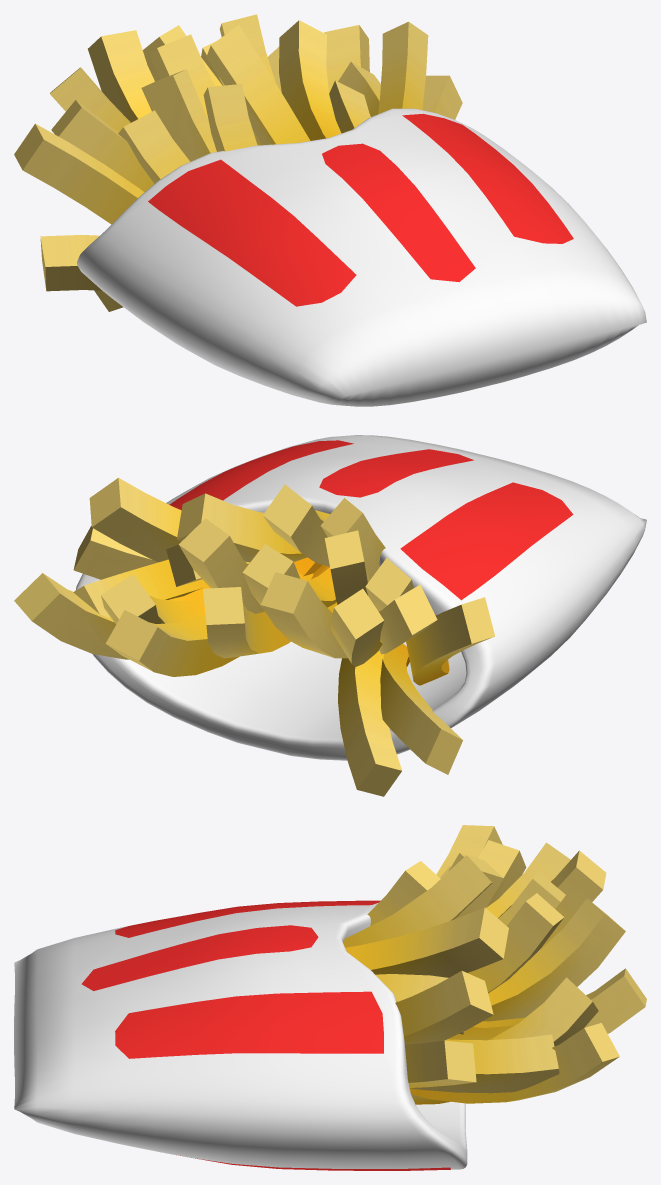
The model's file is chips.fbx.
3 renders of one model, top to bottom at view 1: azimuth 30°, elevation 25°; view 2: azimuth 150°, elevation 25°; view 3: azimuth 270°, elevation 25°, orthographic. The views are drawn at different scales.
Visible parts, largest first — view 1: chips; view 2: chips; view 3: chips.
Part boxes in pixels (x1,y1,x2,y2): chips: [14, 14, 646, 406]; chips: [14, 435, 646, 796]; chips: [14, 825, 646, 1170].
Bounding box in the file's own units: 63.24 × 37.32 × 79.76.
1 material, 1 textured.
